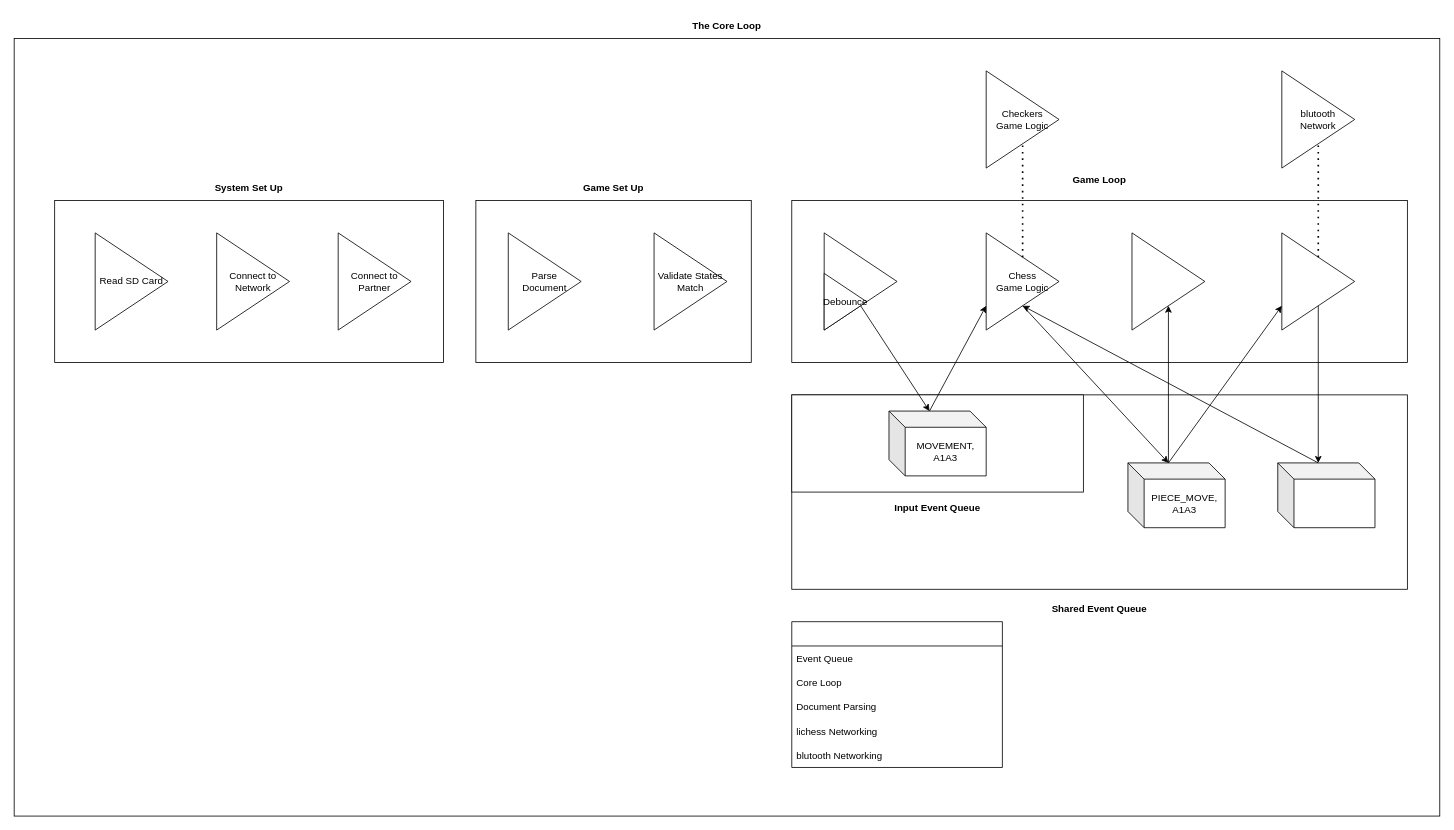
The diagram is 1454 pixels wide and 830 high, and some of its shapes have lost their labels. Here are the shapes that lost their labels. From the top down, the box of each, then its label:
(823, 232, 897, 330): Input
(1131, 232, 1205, 330): Output
(1281, 232, 1355, 330): lichess Network
(1277, 462, 1375, 528): OPPONENT_PIECE_MOVE, H7H6
(791, 621, 1002, 767): Objectives
